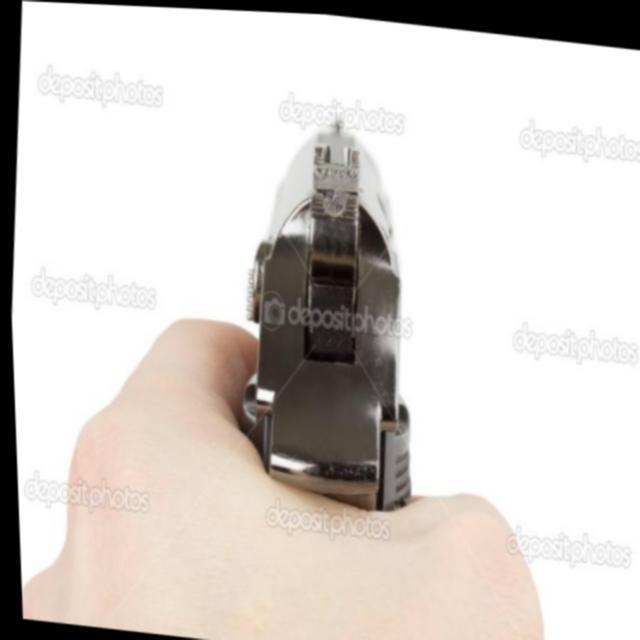weapon: (221, 101, 434, 512)
